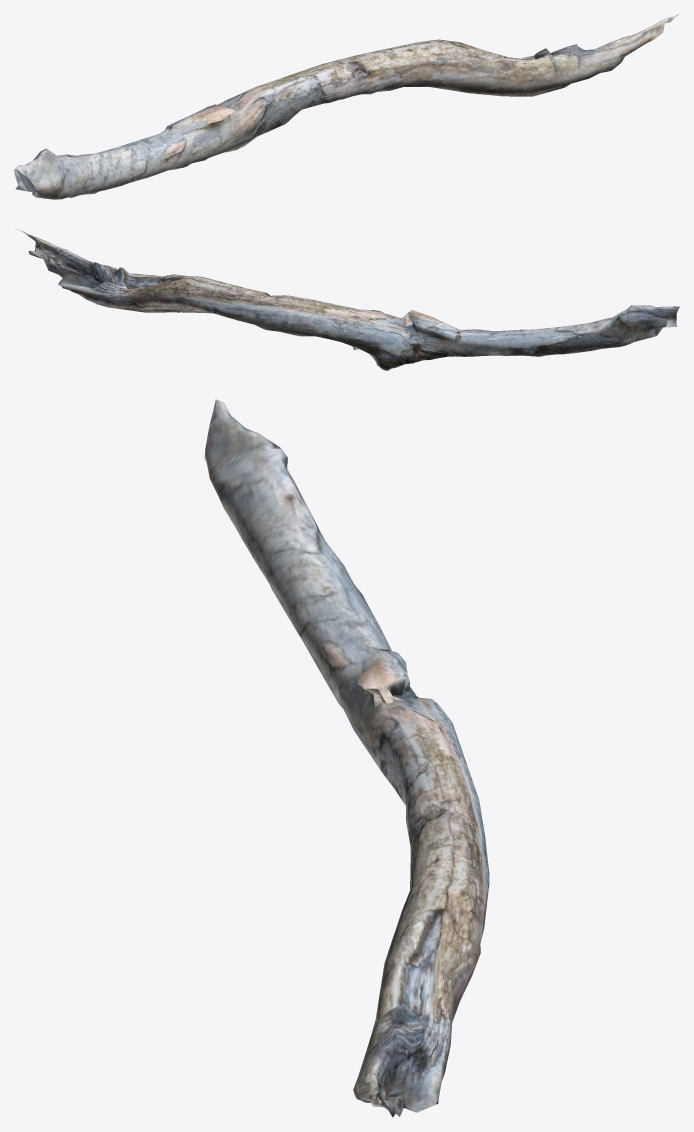
The model's file is SM_Branch_02.fbx.
3 renders of one model, top to bottom at view 1: azimuth 30°, elevation 25°; view 2: azimuth 150°, elevation 25°; view 3: azimuth 270°, elevation 25°, orthographic. The views are drawn at different scales.
Parts seen in each view (by area): view 1: SM_Branch_02; view 2: SM_Branch_02; view 3: SM_Branch_02.
Boxes of the visible parts, x1=… form: SM_Branch_02: x1=14, y1=14, x2=679, y2=199; SM_Branch_02: x1=16, y1=229, x2=679, y2=370; SM_Branch_02: x1=204, y1=399, x2=489, y2=1117.
Size of the model in its own units: 359 by 70.63 by 51.22.
Materials: 1 (1 with a texture image).
